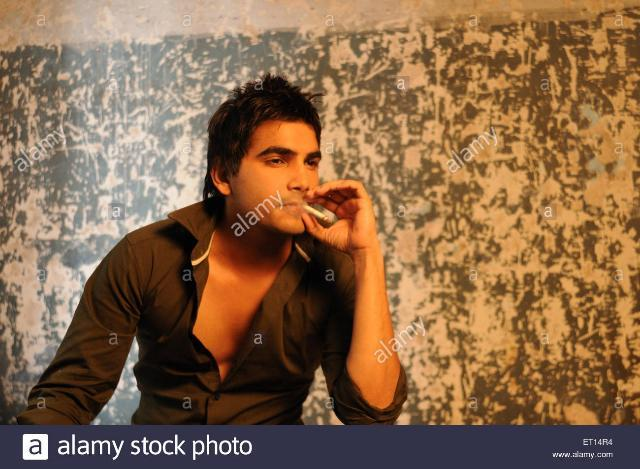SafeDriving: (258, 148, 292, 172), (300, 150, 324, 172)
Smoking: (300, 201, 334, 227)
